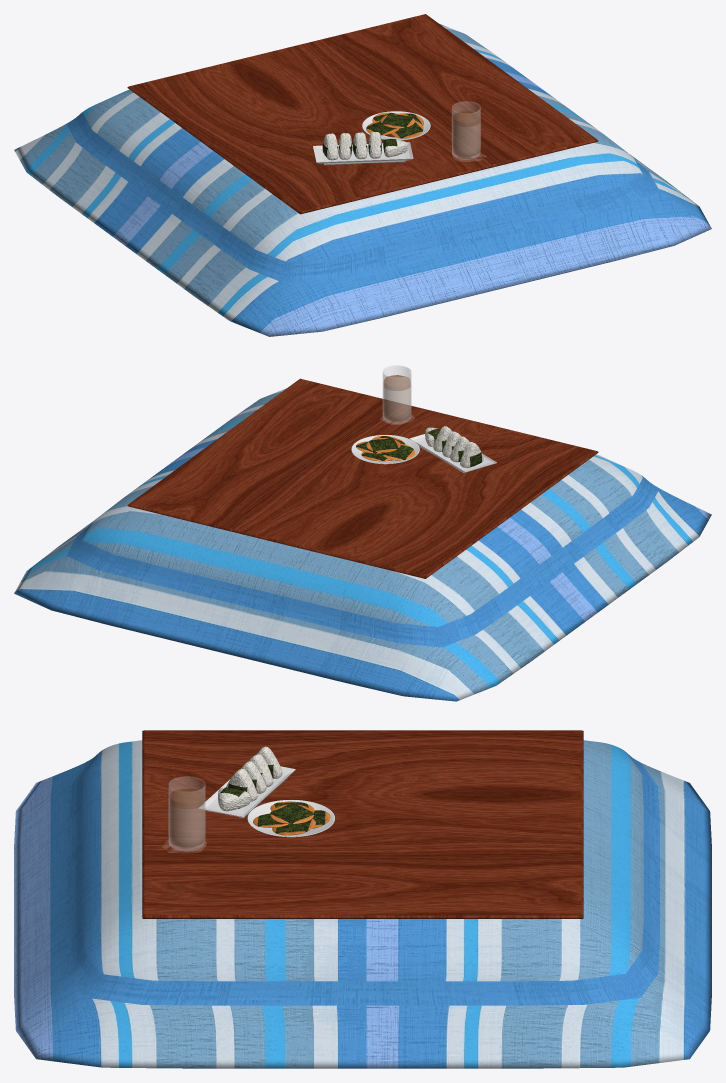
File: still.glb
3 renders of one model, top to bottom at view 1: azimuth 30°, elevation 25°; view 2: azimuth 150°, elevation 25°; view 3: azimuth 270°, elevation 25°, orthographic. The views are drawn at different scales.
Parts seen in each view (by area): view 1: Plane, Kotatsu, Glass, Fluid, Rectangular Plate, Glass.Water Droplets Skidding; view 2: Plane, Kotatsu, Glass, Fluid, Glass.Water Droplets Skidding, Rectangular Plate, Circular Plate; view 3: Plane, Kotatsu, Glass, Fluid, Glass.Water Droplets Skidding, Rectangular Plate, Circular Plate.
Part boxes in pixels (box(x1,y1,x2,y2)): Plane: box(14, 24, 711, 336); Kotatsu: box(127, 14, 598, 214); Glass: box(452, 101, 480, 159); Fluid: box(453, 111, 479, 156); Rectangular Plate: box(313, 142, 413, 165); Glass.Water Droplets Skidding: box(452, 122, 479, 157); Plane: box(14, 388, 711, 701); Kotatsu: box(127, 378, 598, 578); Glass: box(383, 365, 411, 423); Fluid: box(384, 375, 410, 420); Glass.Water Droplets Skidding: box(383, 388, 410, 421); Rectangular Plate: box(409, 434, 496, 473); Circular Plate: box(351, 435, 419, 464); Plane: box(14, 740, 711, 1068); Kotatsu: box(142, 730, 583, 918); Glass: box(168, 776, 205, 850); Fluid: box(170, 789, 203, 846); Glass.Water Droplets Skidding: box(169, 804, 204, 848); Rectangular Plate: box(198, 766, 295, 818); Circular Plate: box(247, 800, 334, 837).
Bounding box in the file's own units: 33.51 × 8.4 × 33.51.
Materials: 9 (5 with a texture image).
